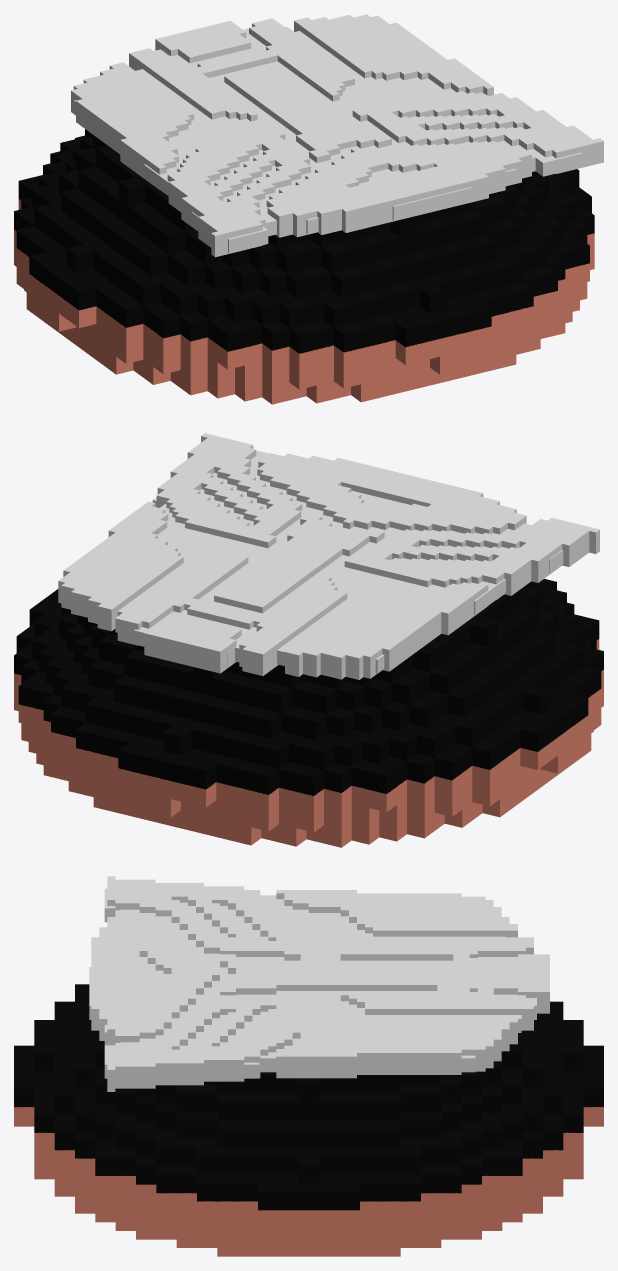
File: Autobot_Emblem.dae
The picture shows the model from 3 angles, top to bottom: view 1: azimuth 30°, elevation 25°; view 2: azimuth 150°, elevation 25°; view 3: azimuth 270°, elevation 25°; orthographic projection. The views are drawn at different scales.
Visible parts, largest first — view 1: Top, Autobots Pixelated Two, Bottom, Shading; view 2: Top, Autobots Pixelated Two, Bottom, Shading; view 3: Autobots Pixelated Two, Top, Bottom, Shading.
Boxes of the visible parts, x1,y1,x2,y2 form: Top: (14,129,594,353); Autobots Pixelated Two: (71,14,603,257); Bottom: (14,199,594,404); Shading: (74,26,582,253); Top: (14,578,603,795); Autobots Pixelated Two: (58,433,599,679); Bottom: (14,639,603,847); Shading: (115,450,563,673); Autobots Pixelated Two: (91,876,549,1091); Top: (14,984,603,1210); Bottom: (14,1107,603,1256); Shading: (89,888,536,1078).
Bounding box in the file's own units: 4.51 × 4.51 × 1.44.
